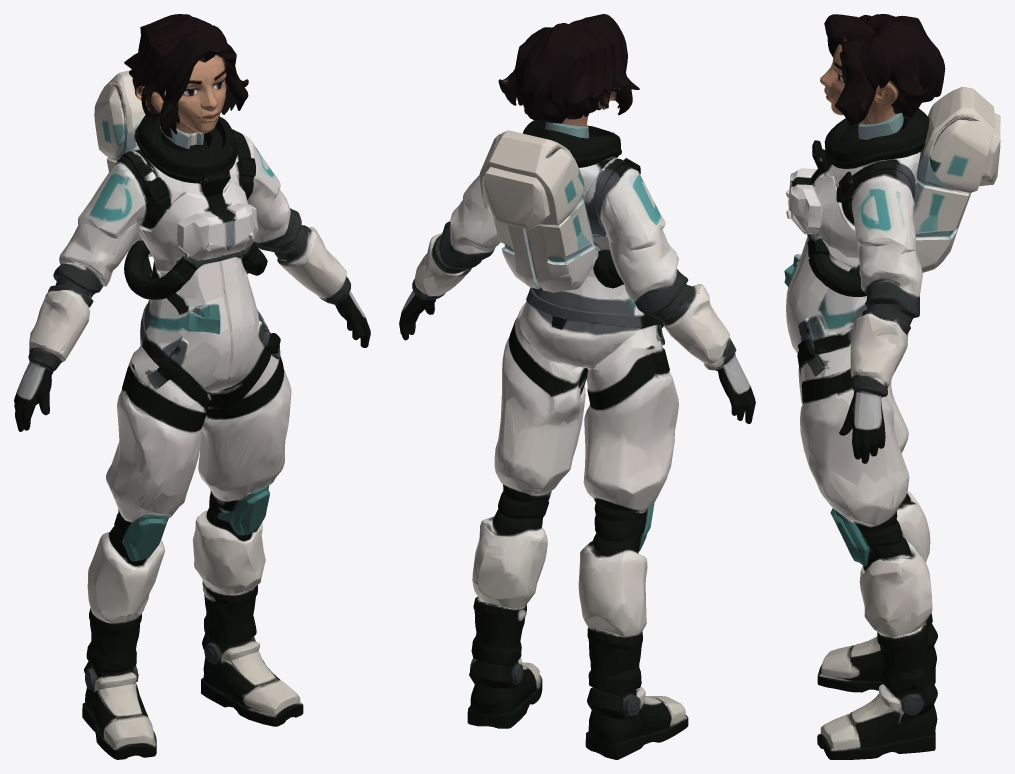
Rendered from A4-paint-suit_remesh30k.glb.
The picture shows the model from 3 angles, left to right: view 1: azimuth 30°, elevation 25°; view 2: azimuth 150°, elevation 25°; view 3: azimuth 270°, elevation 25°; orthographic projection.
Parts seen in each view (by area): view 1: output_unwrapped; view 2: output_unwrapped; view 3: output_unwrapped.
Boxes of the visible parts, x1,y1,x2,y2 form: output_unwrapped: (14,14,370,759); output_unwrapped: (399,14,755,759); output_unwrapped: (784,14,1000,759).
Size of the model in its own units: 1 by 1.9 by 0.5323.
Materials: 1 (1 with a texture image).
